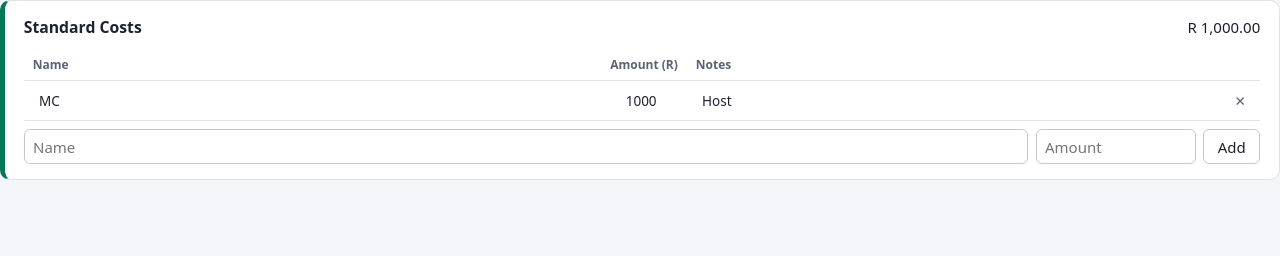
Scenario: removing a line › keeps the line and shows the error when the server refuses
The width and height of the screenshot is (1280, 256).
Click the button named "Remove MC" at [1240, 101], box [1226,87,1254,114]
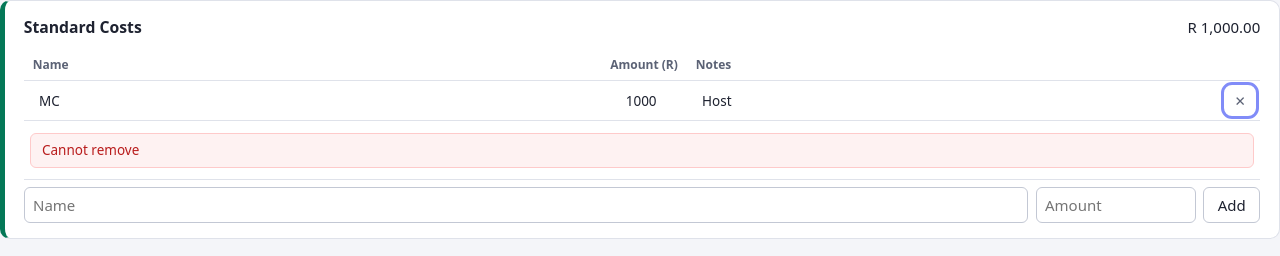
expect the number field named "Amount for MC" is shown: met, box [563,84,681,116]
expect the message reads "Cannot remove": met, box [42,141,139,159]
